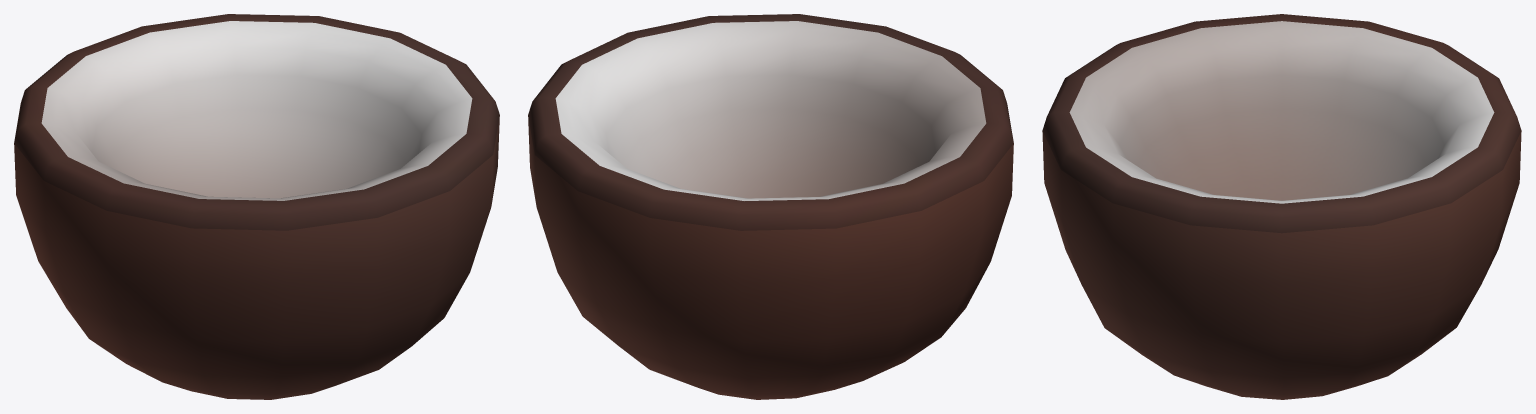
File: coconut_002.fbx
3 views of the same model, side by side, from view 1: azimuth 30°, elevation 25°; view 2: azimuth 150°, elevation 25°; view 3: azimuth 270°, elevation 25° (orthographic).
Visible parts, largest first — view 1: coconut_002; view 2: coconut_002; view 3: coconut_002.
Boxes of the visible parts, left/top/right/bottom form: coconut_002: left=14, top=14, right=499, bottom=399; coconut_002: left=528, top=14, right=1013, bottom=399; coconut_002: left=1042, top=14, right=1521, bottom=399.
Bounding box in the file's own units: 11.27 × 11.08 × 6.64.
